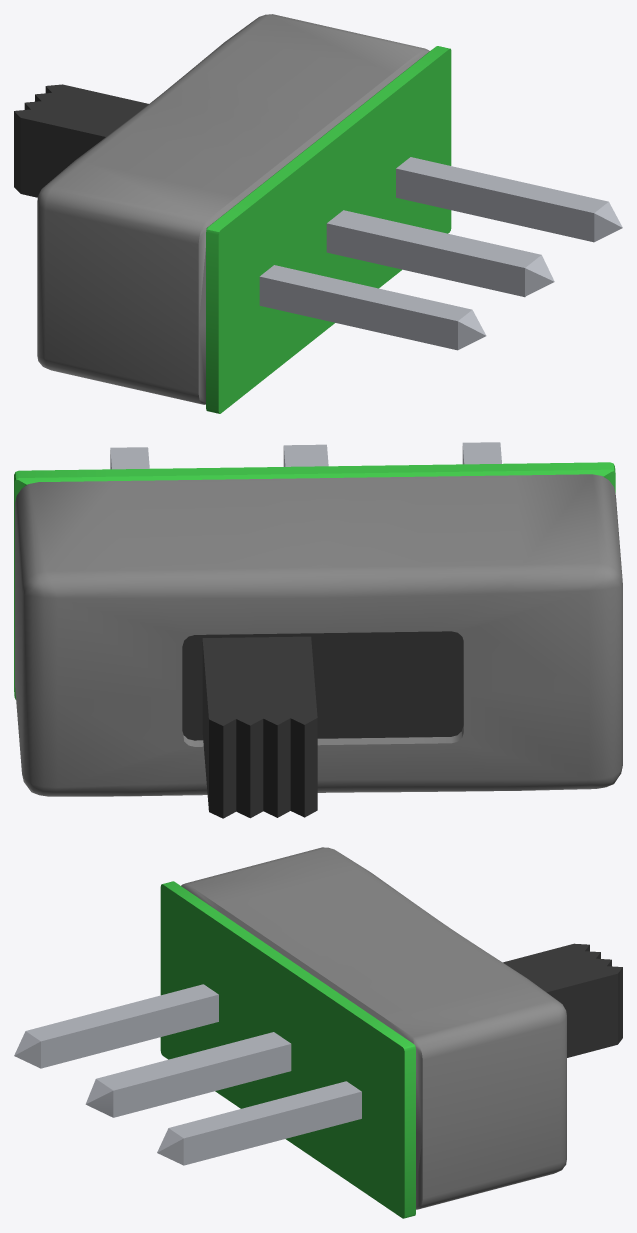
File: switch.fbx
3 views of the same model, one above another, from view 1: azimuth 30°, elevation 25°; view 2: azimuth 150°, elevation 25°; view 3: azimuth 270°, elevation 25° (orthographic). The views are drawn at different scales.
Visible parts, largest first — view 1: switch, switch.001; view 2: switch, switch.001; view 3: switch, switch.001.
Part boxes in pixels (<box>): switch: <box>37,14,622,413</box>; switch.001: <box>14,84,148,197</box>; switch: <box>14,442,622,796</box>; switch.001: <box>182,631,463,818</box>; switch: <box>14,847,566,1218</box>; switch.001: <box>503,943,622,1057</box>.
Bounding box in the file's own units: 111 × 39.37 × 127.
